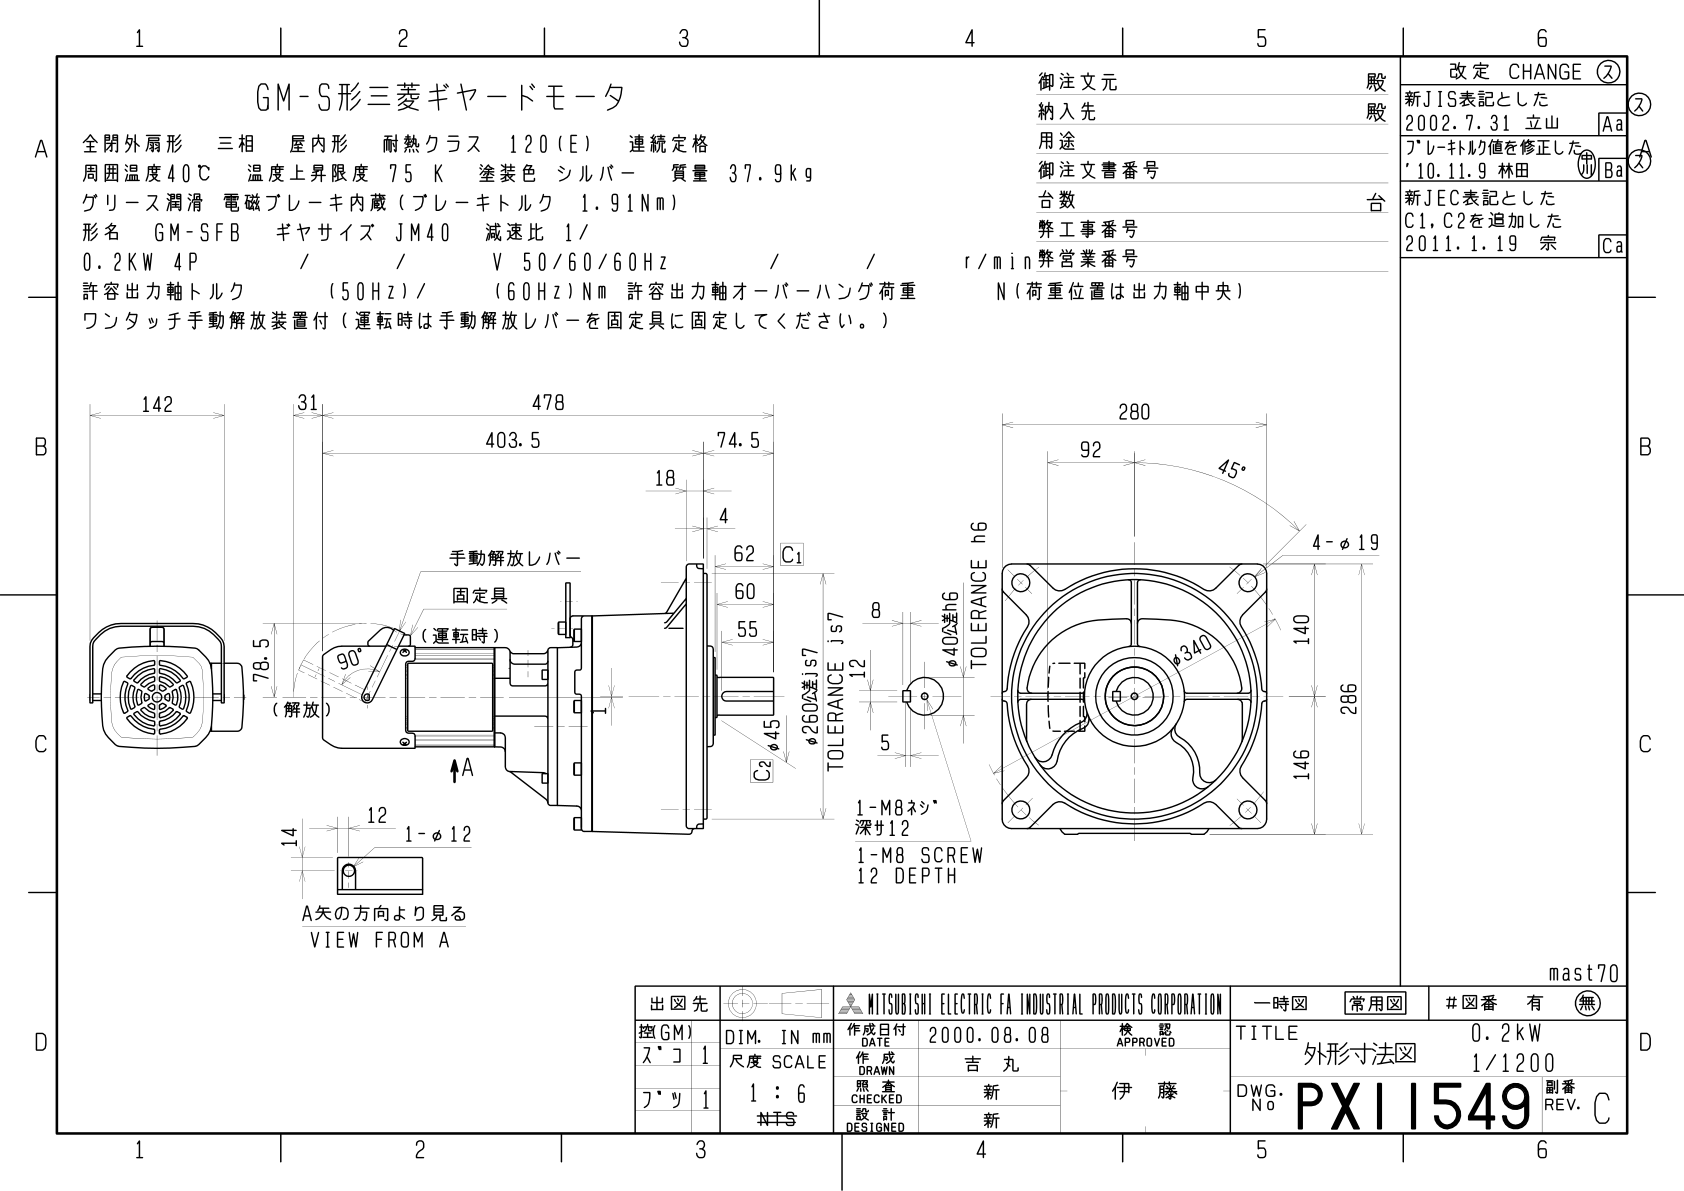GM_S_手動ブレーキ＿三相_フランジ: (8, 9, 1678, 1182)
